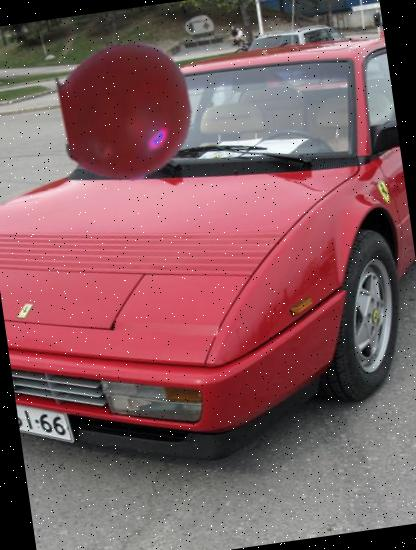Redcurrant: (50, 35, 204, 190)
